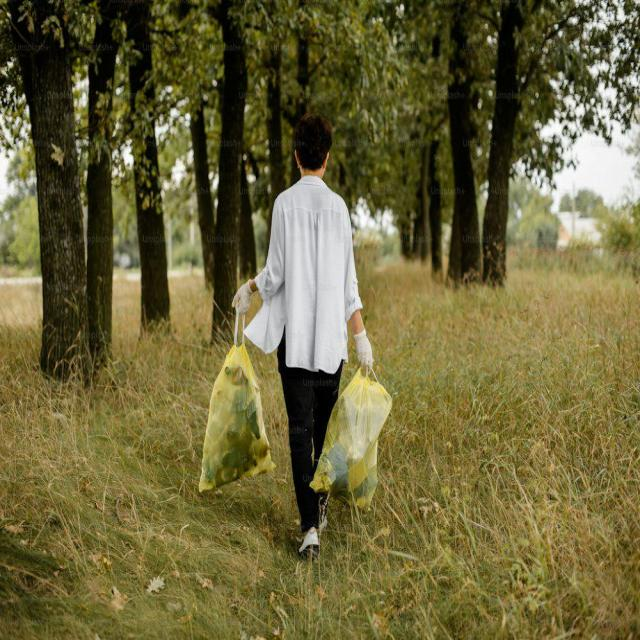trash: (186, 315, 276, 503), (316, 354, 394, 527)
